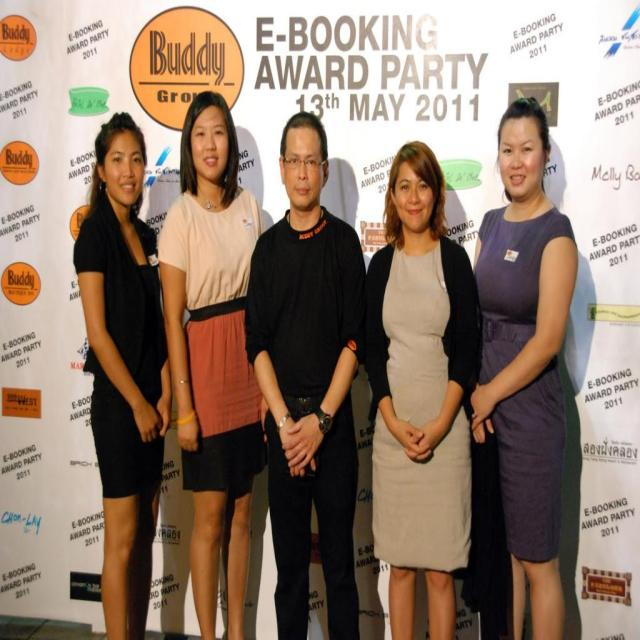Face: (494, 116, 547, 209), (285, 122, 335, 215), (391, 153, 443, 235), (101, 130, 148, 215), (190, 111, 239, 188)
